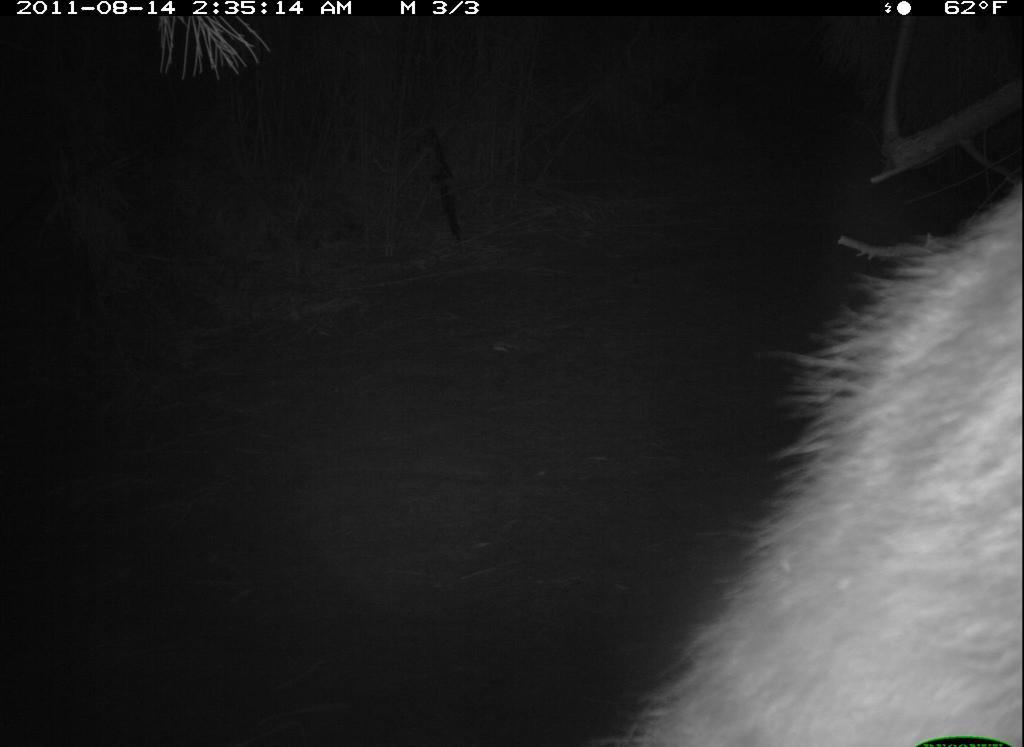raccoon: (589, 181, 1023, 745)
